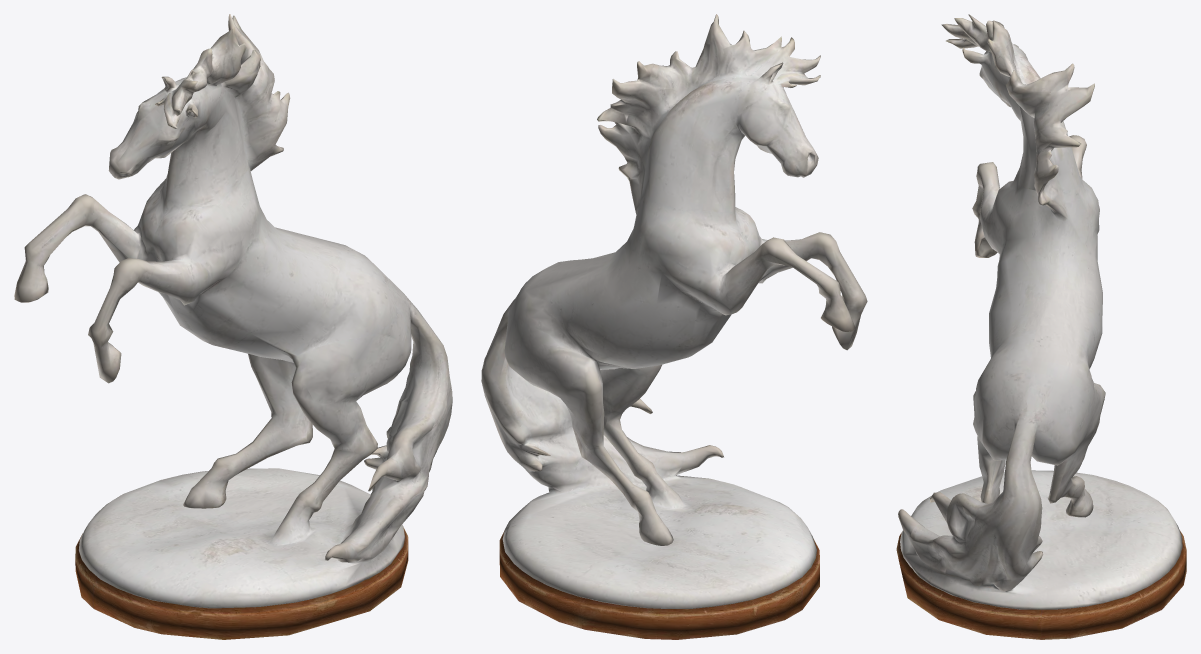
The model's file is horse_statue_01.glb.
The picture shows the model from 3 angles, left to right: view 1: azimuth 30°, elevation 25°; view 2: azimuth 150°, elevation 25°; view 3: azimuth 270°, elevation 25°; orthographic projection. The views are drawn at different scales.
Parts seen in each view (by area): view 1: horse_statue_01; view 2: horse_statue_01; view 3: horse_statue_01.
Boxes of the visible parts, x1=… form: horse_statue_01: x1=14, y1=14, x2=452, y2=639; horse_statue_01: x1=481, y1=14, x2=867, y2=639; horse_statue_01: x1=896, y1=14, x2=1186, y2=639.
Size of the model in its own units: 0.1638 by 0.22 by 0.1078.
Materials: 1 (1 with a texture image).
